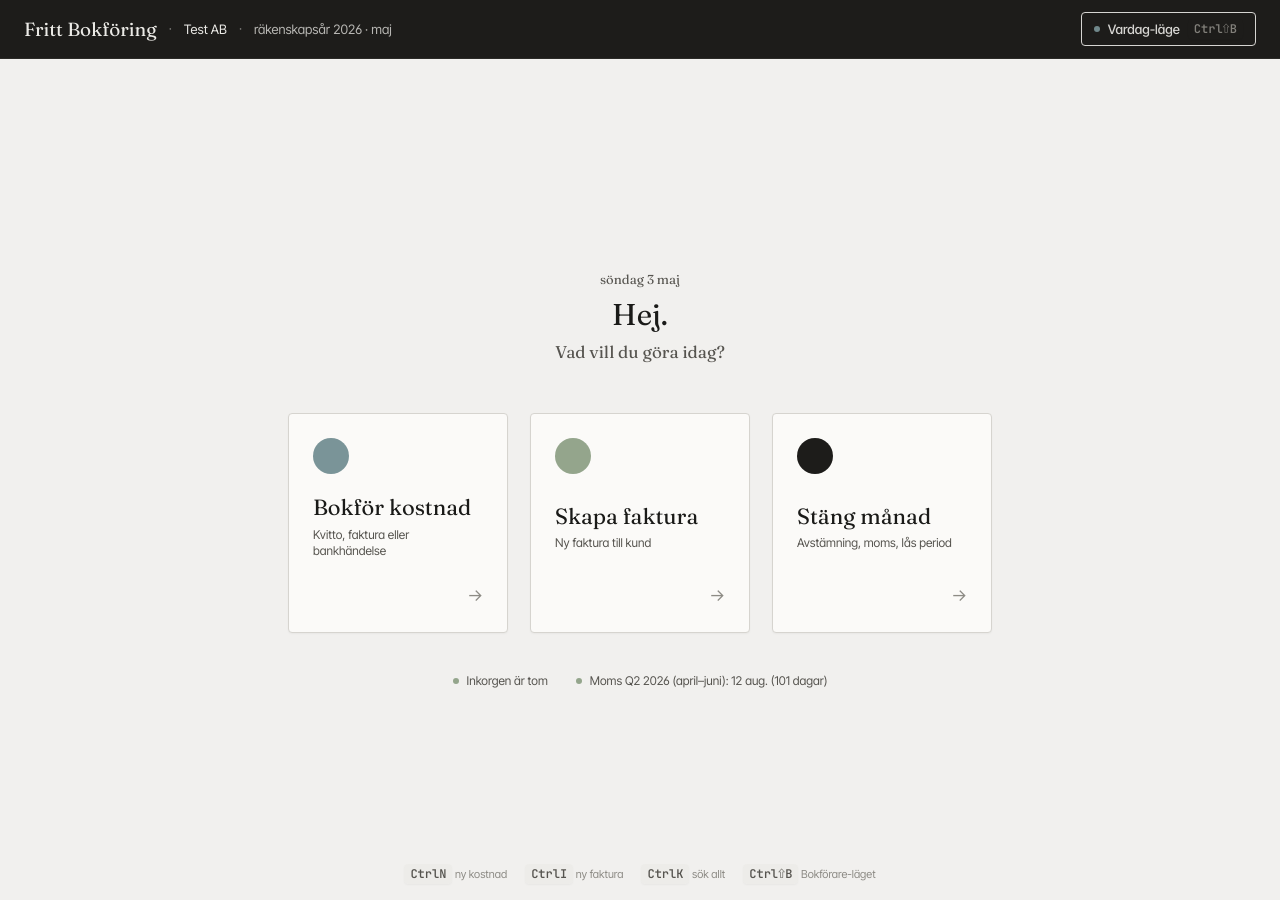
VardagApp (H+G-3 hero-screen) › öppnar BokforKostnadSheet vid klick på kostnad-knapp
The width and height of the screenshot is (1280, 900).
Click the button with test id "vardag-bigbtn-kostnad" at {"x": 398, "y": 523}, box [288,413,508,633]
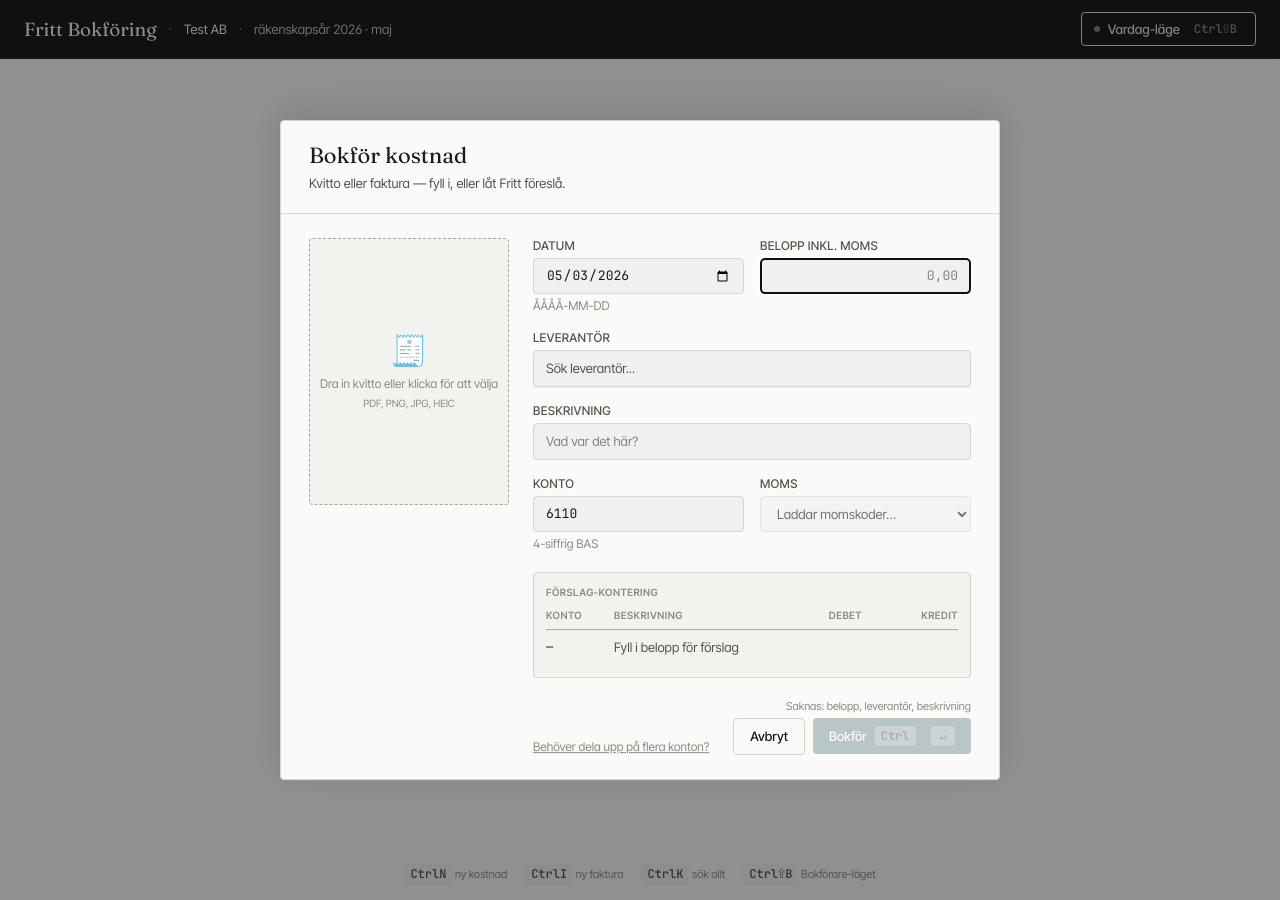
Result: the dialog "Bokför kostnad" is shown at [280,120,1000,780]
